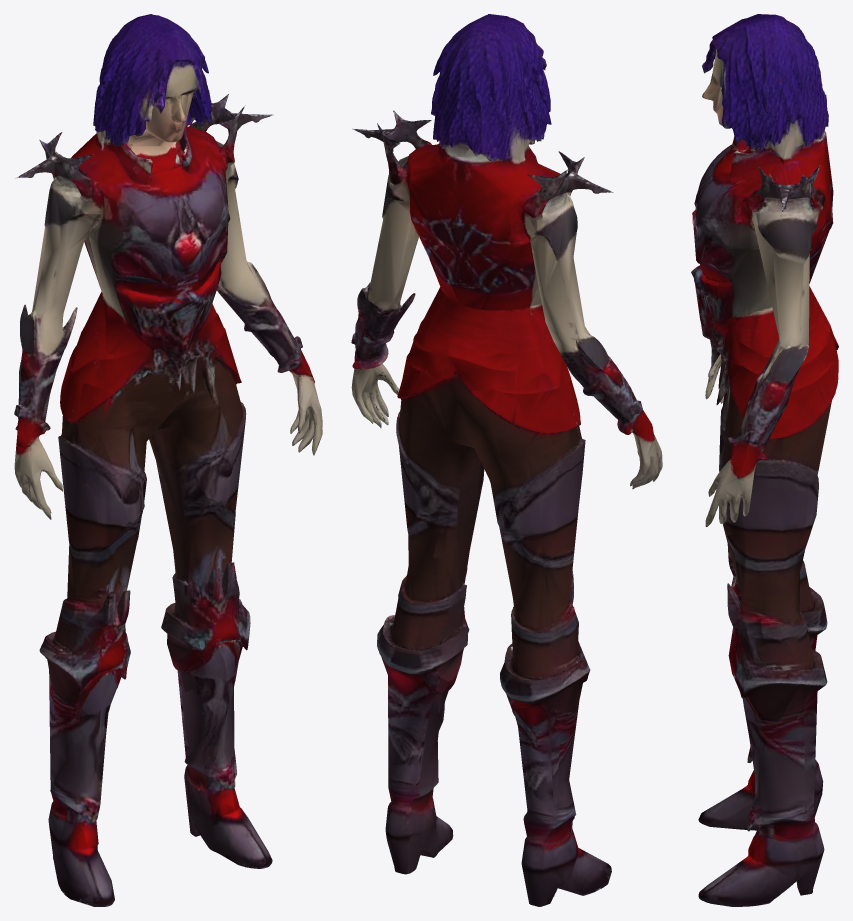
The model's file is ignis-molok-female-warrior.glb.
3 renders of one model, left to right at view 1: azimuth 30°, elevation 25°; view 2: azimuth 150°, elevation 25°; view 3: azimuth 270°, elevation 25°, orthographic.
Visible parts, largest first — view 1: model; view 2: model; view 3: model.
Part boxes in pixels (x1,y1,x2,y2): model: (14, 14, 322, 906); model: (351, 14, 662, 906); model: (691, 14, 838, 906).
Bounding box in the file's own units: 0.6998 × 1.9 × 0.3024.
Materials: 1 (1 with a texture image).
